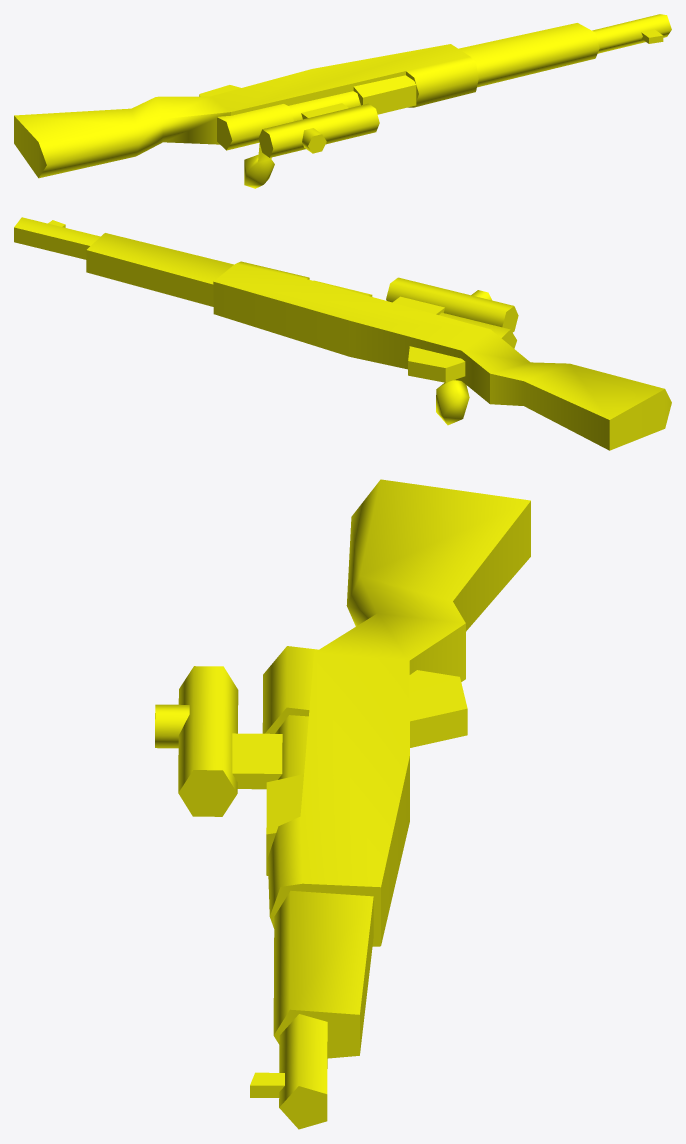
File: weapon_arisaka_scope.glb
The picture shows the model from 3 angles, top to bottom: view 1: azimuth 30°, elevation 25°; view 2: azimuth 150°, elevation 25°; view 3: azimuth 270°, elevation 25°; orthographic projection. The views are drawn at different scales.
Parts seen in each view (by area): view 1: weapon_arisaka_scope; view 2: weapon_arisaka_scope; view 3: weapon_arisaka_scope.
Boxes of the visible parts, x1,y1,x2,y2 form: weapon_arisaka_scope: (14, 14, 671, 188); weapon_arisaka_scope: (14, 217, 671, 450); weapon_arisaka_scope: (155, 479, 530, 1129).
Bounding box in the file's own units: 1.75 × 0.2529 × 0.4701.
1 material, 1 textured.
